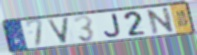2: (124, 10, 150, 38)
3: (73, 14, 97, 43)
7: (24, 18, 45, 49)
J: (102, 13, 123, 39)
N: (144, 6, 176, 36)
V: (45, 17, 72, 45)
